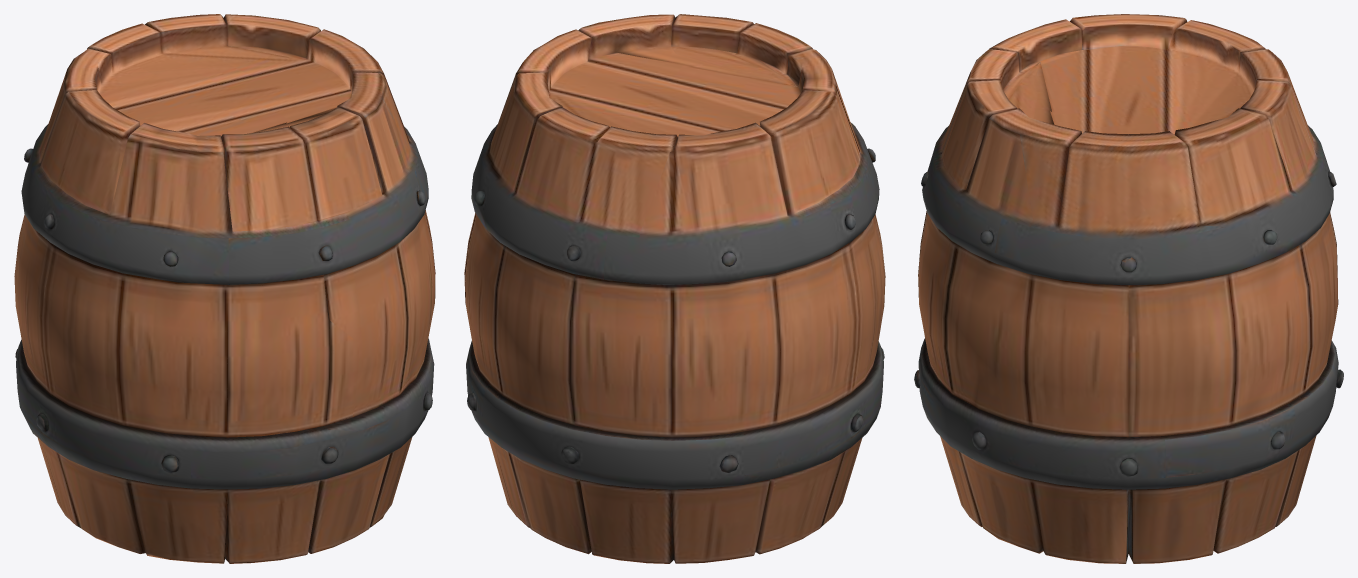
Rendered from item-barrel.glb.
3 renders of one model, left to right at view 1: azimuth 30°, elevation 25°; view 2: azimuth 150°, elevation 25°; view 3: azimuth 270°, elevation 25°, orthographic.
Bounding box in the file's own units: 0.896 × 0.9521 × 0.894.
Materials: 1 (1 with a texture image).
